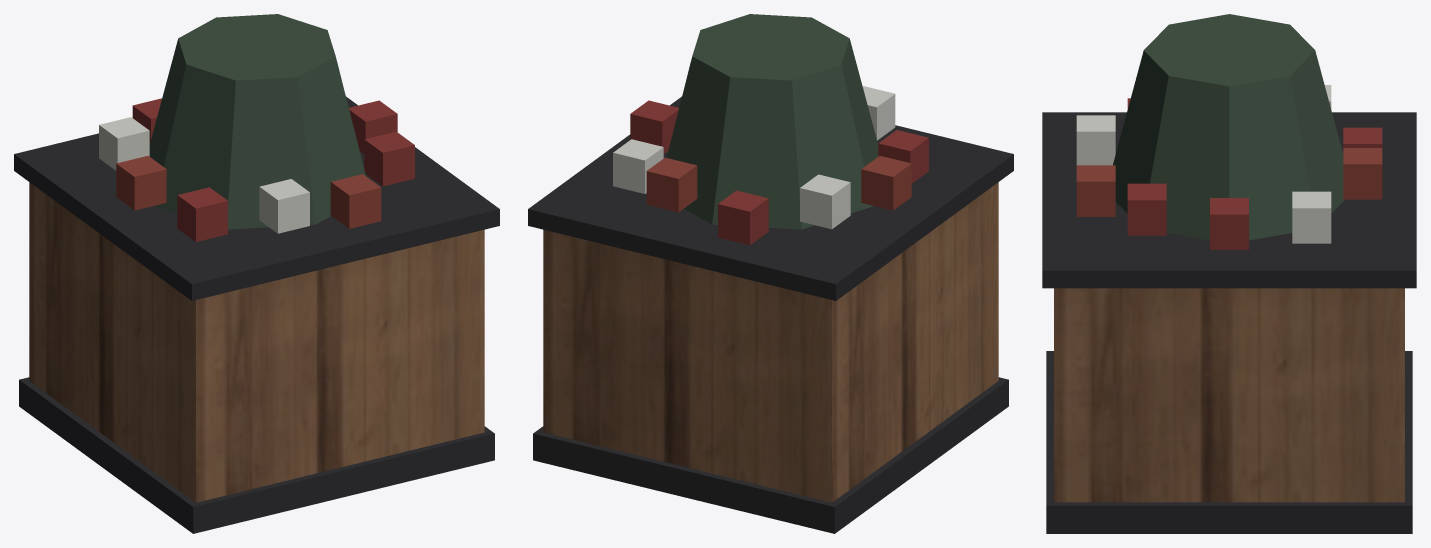
Rendered from town_planter 2.gltf.
3 views of the same model, side by side, from view 1: azimuth 30°, elevation 25°; view 2: azimuth 150°, elevation 25°; view 3: azimuth 270°, elevation 25° (orthographic). The views are drawn at different scales.
Visible parts, largest first — view 1: TownPlanter_Box, TownPlanter_Shrub, TownPlanter_Rim, TownPlanter_Blooms; view 2: TownPlanter_Box, TownPlanter_Shrub, TownPlanter_Rim, TownPlanter_Blooms; view 3: TownPlanter_Box, TownPlanter_Shrub, TownPlanter_Rim, TownPlanter_Blooms.
Part boxes in pixels (box(x1,y1,x2,y2)): TownPlanter_Box: box(19, 182, 494, 533); TownPlanter_Shrub: box(149, 14, 365, 229); TownPlanter_Rim: box(14, 96, 499, 300); TownPlanter_Blooms: box(99, 98, 414, 241); TownPlanter_Box: box(533, 182, 1008, 533); TownPlanter_Shrub: box(666, 14, 878, 229); TownPlanter_Rim: box(528, 96, 1013, 300); TownPlanter_Blooms: box(613, 86, 928, 245); TownPlanter_Box: box(1046, 288, 1412, 533); TownPlanter_Shrub: box(1113, 14, 1344, 240); TownPlanter_Rim: box(1042, 112, 1416, 288); TownPlanter_Blooms: box(1076, 85, 1382, 249).
Size of what is drawn, in the model's own units: 0.96 by 1.15 by 0.96.
1 material, 1 textured.
